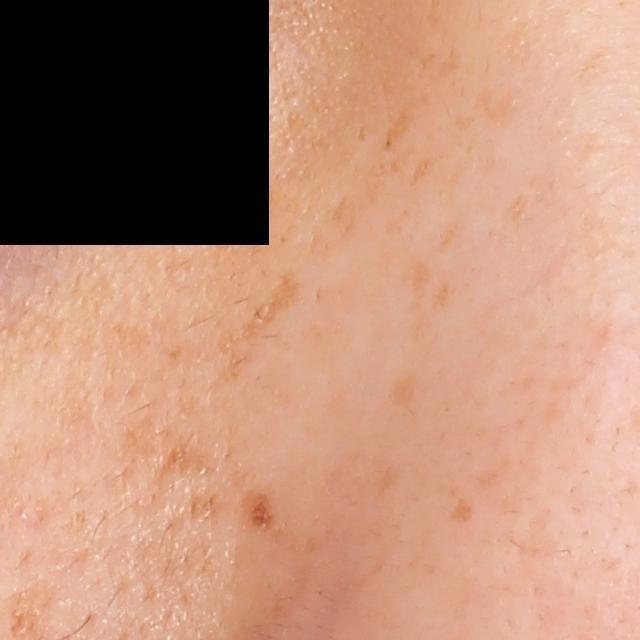melasma: (207, 266, 308, 399), (377, 101, 415, 158), (407, 258, 431, 346), (240, 487, 277, 536), (386, 366, 420, 414), (434, 217, 463, 258), (438, 39, 465, 79), (379, 462, 406, 493), (447, 497, 474, 525), (430, 277, 448, 312)
